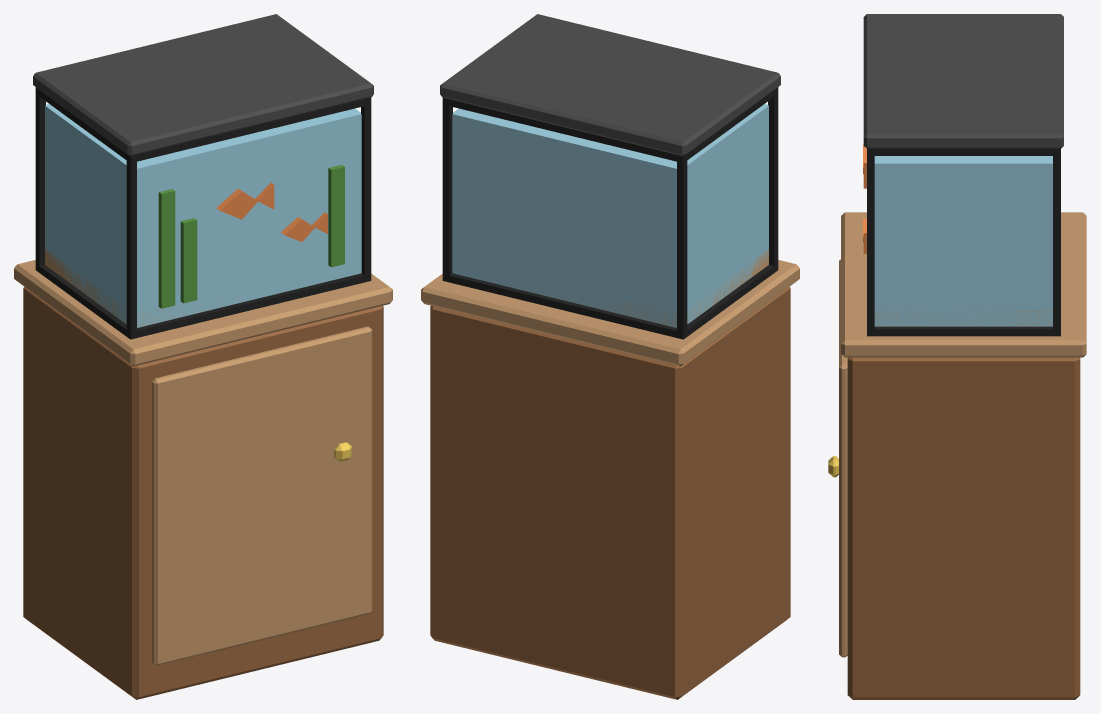
Rendered from fish_tank.glb.
3 renders of one model, left to right at view 1: azimuth 30°, elevation 25°; view 2: azimuth 150°, elevation 25°; view 3: azimuth 270°, elevation 25°, orthographic. The views are drawn at different scales.
Parts seen in each view (by area): view 1: fish_tank; view 2: fish_tank; view 3: fish_tank.
Boxes of the visible parts, box(x1,y1,x2,y2) form: fish_tank: box(14, 14, 392, 699); fish_tank: box(421, 14, 799, 699); fish_tank: box(828, 14, 1086, 699).
Bounding box in the file's own units: 0.48 × 0.965 × 0.4.
1 material, 1 textured.
